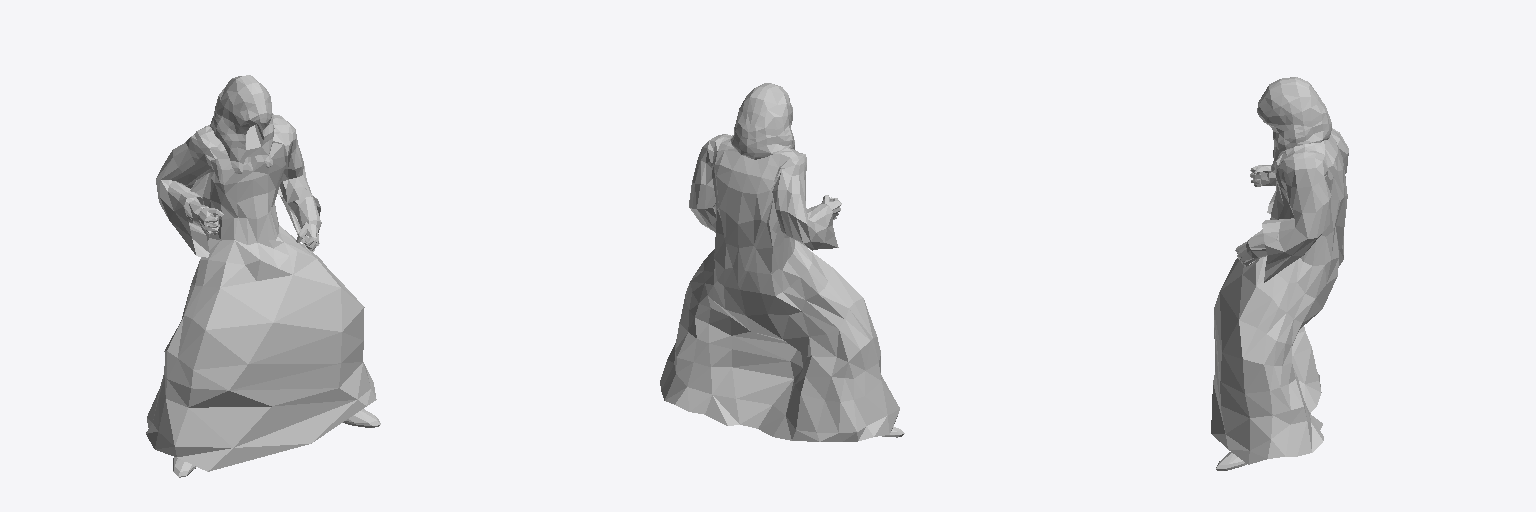
File: Fellbeast_Animate_Flying_34.obj
The picture shows the model from 3 angles: view 1: azimuth 30°, elevation 25°; view 2: azimuth 150°, elevation 25°; view 3: azimuth 270°, elevation 25°; orthographic projection.
Visible parts, largest first — view 1: dm_nazgulrobe_ride_241108; view 2: dm_nazgulrobe_ride_241108; view 3: dm_nazgulrobe_ride_241108.
Part boxes in pixels (x1,y1,x2,y2): dm_nazgulrobe_ride_241108: (146, 75, 380, 477); dm_nazgulrobe_ride_241108: (660, 83, 904, 441); dm_nazgulrobe_ride_241108: (1211, 77, 1348, 470).
Size of the model in its own units: 0.4419 by 0.6651 by 0.237.